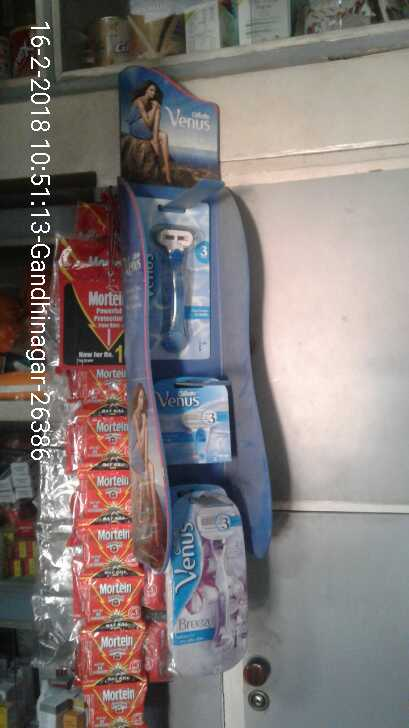venus: (158, 485, 251, 678), (131, 194, 214, 356), (147, 375, 242, 468)
